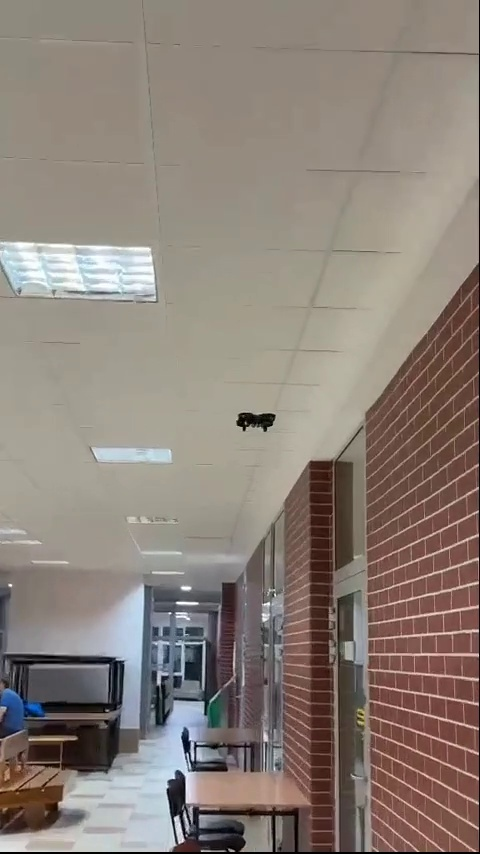drone: (237, 413, 277, 433)
